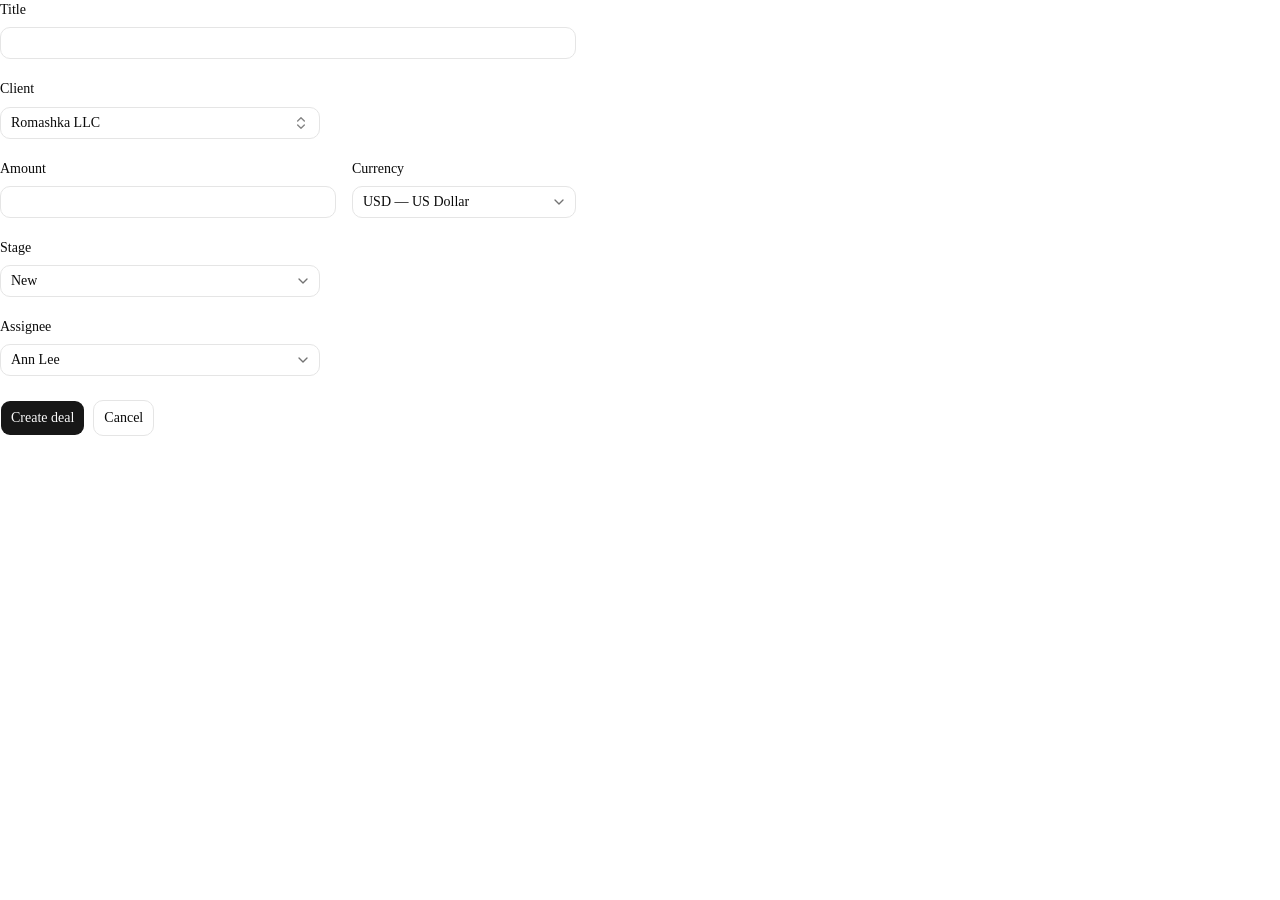
Test: deal form › create › should name the client list and mark the current client when it opens
The image size is (1280, 900).
Click the dropdown named "Client" at (56, 122), box x1=0 y1=106 x2=320 y2=138
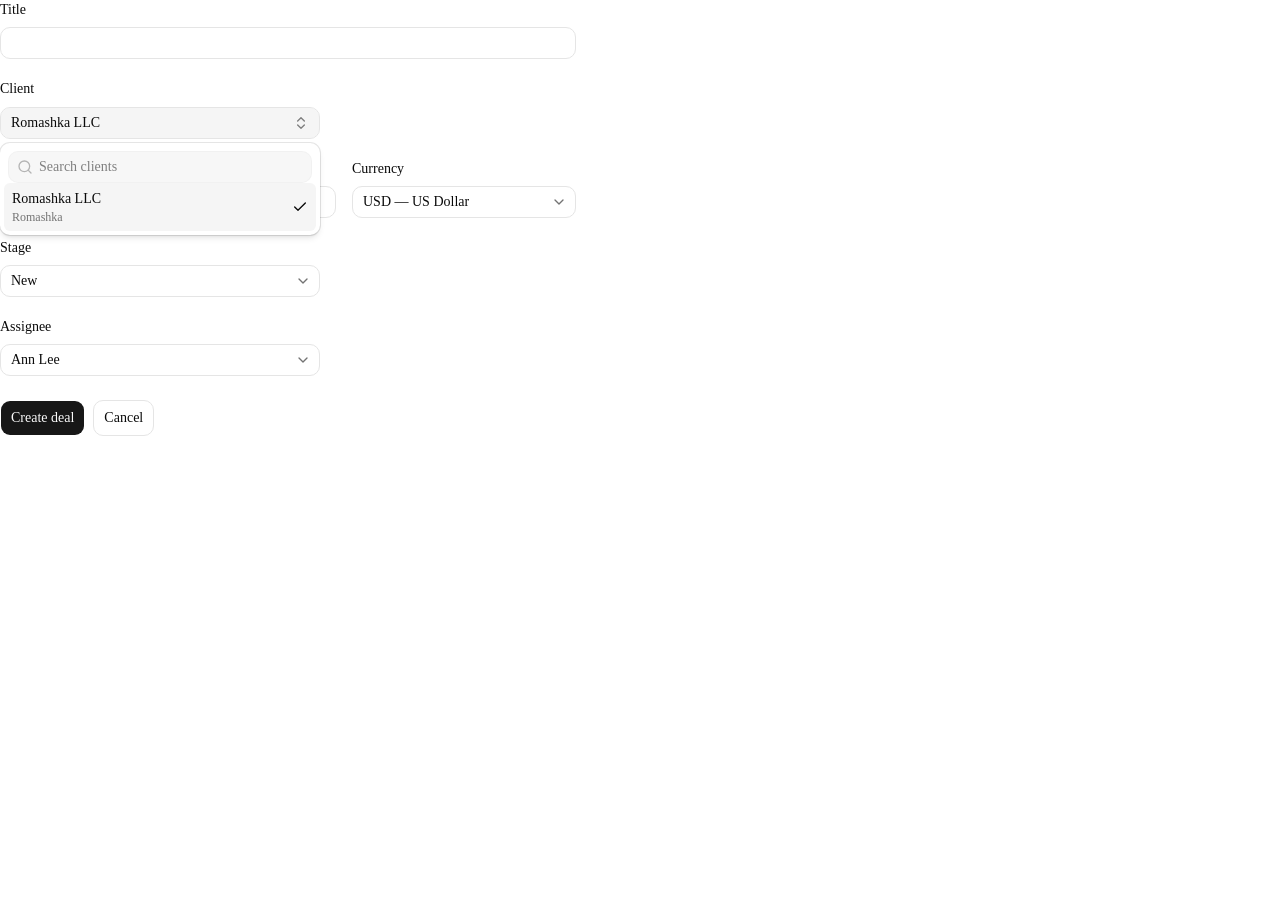
Expected: the dialog named "Choose a client" is shown, x1=0 y1=143 x2=320 y2=235
Expected: the option "Romashka LLC Romashka" is shown, x1=4 y1=183 x2=316 y2=231
